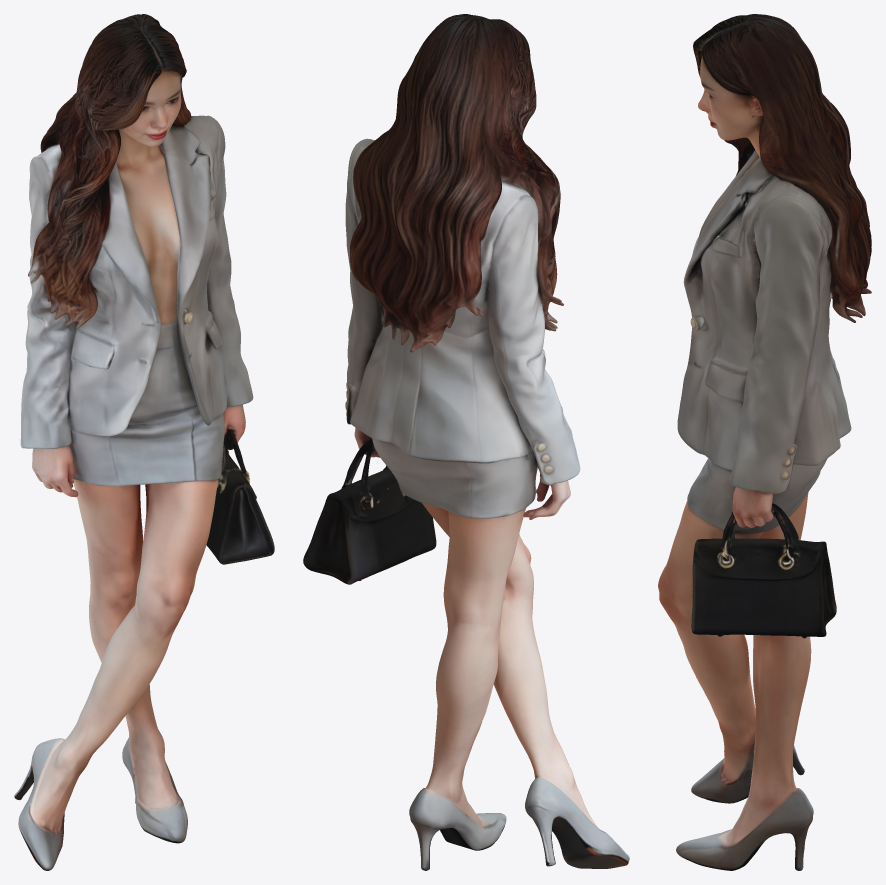
Rendered from visitor2.glb.
3 views of the same model, side by side, from view 1: azimuth 30°, elevation 25°; view 2: azimuth 150°, elevation 25°; view 3: azimuth 270°, elevation 25° (orthographic). The views are drawn at different scales.
Visible parts, largest first — view 1: Mesh_0_modddif_material_0_0 (×2); view 2: Mesh_0_modddif_material_0_0 (×2); view 3: Mesh_0_modddif_material_0_0 (×2).
Part boxes in pixels (<box>): Mesh_0_modddif_material_0_0 (×2): <box>14,14,274,870</box>; Mesh_0_modddif_material_0_0 (×2): <box>303,14,629,870</box>; Mesh_0_modddif_material_0_0 (×2): <box>658,14,871,870</box>.
Size of the model in its own units: 0.3303 by 1 by 0.2305.
Materials: 1 (1 with a texture image).
